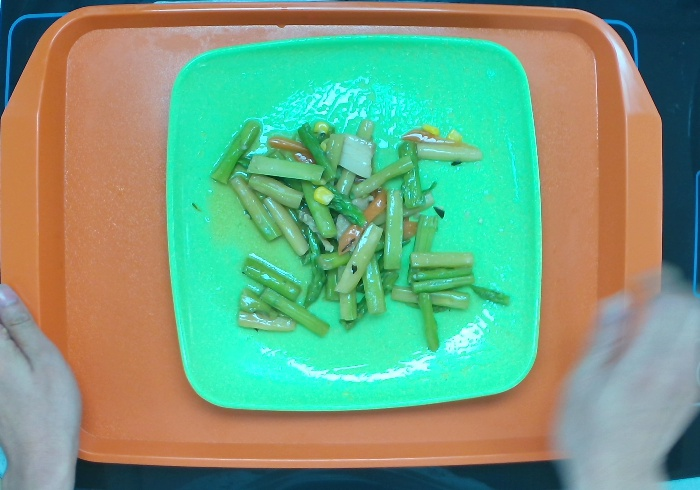ZNLD-Lv_Fang_Pan: (164, 32, 544, 415)
